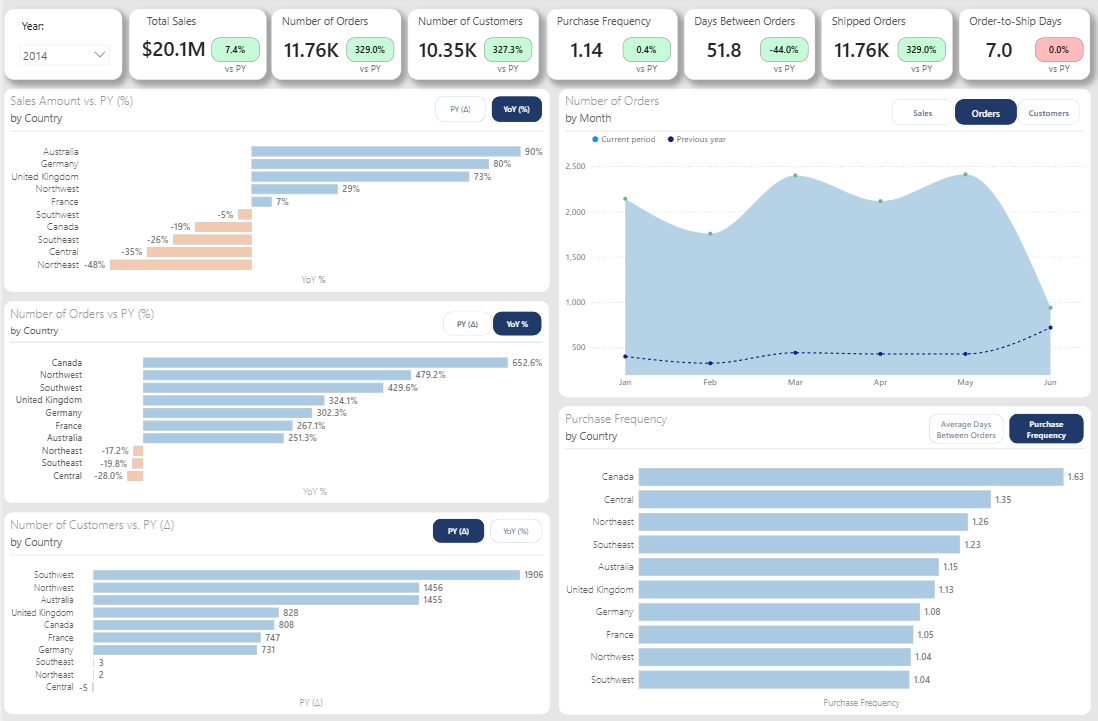

What the dashboard file says about the page in this screenshot:
{"tool":"powerbi","page":{"name":"My","canvas":[1920,1280],"ordinal":0},"visuals":[{"type":"shape","box":[218,24,240,124],"z":0,"group":"g10"},{"type":"shape","box":[466,24,226.6,124.3],"z":0,"group":"g11"},{"type":"shape","box":[705.1,24,228.6,124],"z":0,"group":"g12"},{"type":"shape","box":[945.7,24,228.6,124],"z":0,"group":"g5"},{"type":"shape","box":[1186.3,24,228.6,124],"z":0,"group":"g6"},{"type":"shape","box":[1426.9,24,228.6,124],"z":0,"group":"g8"},{"type":"shape","box":[1667.4,24,228.6,124],"z":0,"group":"g9"},{"type":"group","id":"g1","title":"Sales Amount by Country","box":[0,164,952,354],"z":0},{"type":"barChart","title":"Sales Amount vs. PY (Δ)","fields":{"Category":["dim_customer.TerritoryName"],"Y":["Measure.Total Sales vs PY (Δ)"]},"box":[0,164,952,354],"z":0,"group":"g1"},{"type":"lineChart","fields":{"Category":["Order Date.Month Name"],"Y":["Measure.Line Current","Measure.Line Previous Year","Measure.Line Below PY","Measure.Line Above PY"]},"box":[968,164,928,538],"z":0,"group":"g2"},{"type":"barChart","title":"Number of Customers vs. PY (Δ)","fields":{"Category":["dim_customer.TerritoryName"],"Y":["Measure.Number of Customer vs PY (Δ)"]},"box":[0,904,953,352],"z":0,"group":"g4"},{"type":"shape","box":[0,24,206,124],"z":1000},{"type":"card","fields":{"Values":["Measure.Total sales"]},"box":[228,62,134,64],"z":1000,"group":"g10"},{"type":"card","fields":{"Values":["Measure.Number of Orders"]},"box":[476,63.4,117.1,62.9],"z":1000,"group":"g11"},{"type":"card","fields":{"Values":["Measure.Number of Customers"]},"box":[715.2,63.4,118.2,62.7],"z":1000,"group":"g12"},{"type":"card","fields":{"Values":["Measure.Purchase Frequency"]},"box":[955.8,63.4,118.2,62.7],"z":1000,"group":"g5"},{"type":"card","fields":{"Values":["Measure.Average Days Between Orders"]},"box":[1196.4,63.4,118.2,62.7],"z":1000,"group":"g6"},{"type":"card","fields":{"Values":["Measure.Shipped Orders"]},"box":[1437,63.4,118.2,62.7],"z":1000,"group":"g8"},{"type":"card","fields":{"Values":["Measure.Average Order-to-Ship Days"]},"box":[1677.5,63.4,118.2,62.7],"z":1000,"group":"g9"},{"type":"textbox","title":"Legend","box":[1020,236,350,34],"z":1000,"group":"g2"},{"type":"card","fields":{"Values":["Measure.Total sales YoY %"]},"box":[362,73.7,84,42],"z":2000,"group":"g10"},{"type":"card","fields":{"Values":["Measure.Number of Customers YoY %"]},"box":[837.1,73.7,84,42],"z":2000,"group":"g12"},{"type":"card","fields":{"Values":["Measure.Purchase Frequency YoY %"]},"box":[1077.7,73.7,84,42],"z":2000,"group":"g5"},{"type":"card","fields":{"Values":["Measure.Average Days Between Orders YoY %"]},"box":[1318.3,73.7,84,42],"z":2000,"group":"g6"},{"type":"card","fields":{"Values":["Measure.Shipped Orders YoY %"]},"box":[1558.9,73.7,84,42],"z":2000,"group":"g8"},{"type":"card","fields":{"Values":["Measure.Average Order-to-Ship Days YoY %"]},"box":[1799.4,73.7,84,42],"z":2000,"group":"g9"},{"type":"card","fields":{"Values":["Measure.Number of Orders YoY %"]},"box":[596.9,73.8,83.3,42.1],"z":2000,"group":"g11"},{"type":"group","id":"g2","title":"Line for Sales/Orders/Customers","box":[968,164,928,538],"z":2000},{"type":"bookmarkNavigator","box":[751.8,176,187.9,45.2],"z":2000,"group":"g1"},{"type":"advancedSlicerVisual","fields":{"Values":["Parameter for Line.Parameter for Line"]},"box":[1544,176,340,55],"z":2000,"group":"g2"},{"type":"barChart","fields":{"Category":["dim_customer.TerritoryName"],"Y":["Measure.Number of Orders YoY %"]},"box":[0,534,951.1,352],"z":2000,"group":"g3"},{"type":"bookmarkNavigator","box":[747.6,916,191,42.8],"z":2000,"group":"g4"},{"type":"textbox","box":[243.9,29.2,198.9,35.6],"z":3000,"group":"g10"},{"type":"textbox","box":[479.7,29.2,197.1,35.7],"z":3000,"group":"g11"},{"type":"textbox","box":[719,29.2,198.9,35.6],"z":3000,"group":"g12"},{"type":"textbox","box":[959.6,29.2,198.9,35.6],"z":3000,"group":"g5"},{"type":"textbox","box":[1200.2,29.2,198.9,35.6],"z":3000,"group":"g6"},{"type":"textbox","box":[1440.8,29.2,198.9,35.6],"z":3000,"group":"g8"},{"type":"textbox","box":[1681.3,29.2,198.9,35.6],"z":3000,"group":"g9"},{"type":"group","id":"g3","title":"Number of Orders by Country","box":[0,534,1030,352],"z":3000},{"type":"slicer","fields":{"Values":["Date.Year"]},"box":[18,76,176,48],"z":4000},{"type":"textbox","box":[362,112,84,36],"z":4000,"group":"g10"},{"type":"textbox","box":[837.1,112,84,36],"z":4000,"group":"g12"},{"type":"textbox","box":[1077.7,112,84,36],"z":4000,"group":"g5"},{"type":"textbox","box":[1318.3,112,84,36],"z":4000,"group":"g6"},{"type":"textbox","box":[1558.9,112,84,36],"z":4000,"group":"g8"},{"type":"textbox","box":[1799.4,112,84,36],"z":4000,"group":"g9"},{"type":"textbox","box":[596.9,112.2,83.3,36.1],"z":4000,"group":"g11"},{"type":"advancedSlicerVisual","fields":{"Values":["Parameter Number of Order by Country .Parameter Number of Order by Country "]},"box":[761,546.5,269,52.3],"z":4000,"group":"g3"},{"type":"textbox","box":[26,36,164,42],"z":5000},{"type":"group","id":"g4","title":"Number of Customers by Country","box":[0,904,952,352],"z":6000},{"type":"group","id":"g5","title":"Purchase Frequency KPI","box":[945.7,24,228.6,124],"z":7000},{"type":"group","id":"g6","title":"Days Between Orders KPI","box":[1186.3,24,228.6,124],"z":8000},{"type":"group","id":"g7","title":"Purchase frequency / Average Days Between Orders","box":[968,718,928,538],"z":9000},{"type":"group","id":"g8","title":"Shipped Orders KPI","box":[1426.9,24,228.6,124],"z":10000},{"type":"barChart","title":"Purchase Frequency","fields":{"Category":["dim_customer.TerritoryName"],"Y":["Measure.Purchase Frequency"]},"box":[968,718,928,538],"z":10000,"group":"g7"},{"type":"bookmarkNavigator","box":[1614,730,270,52],"z":10500,"group":"g7"},{"type":"group","id":"g9","title":"Order-to-Ship Days KPI","box":[1667.4,24,228.6,124],"z":11000},{"type":"group","id":"g10","title":"Sales KPI","box":[218,24,240,124],"z":12000},{"type":"group","id":"g11","title":"Orders KPI","box":[466,24,226,124],"z":13000},{"type":"group","id":"g12","title":"Customers KPI","box":[705.1,24,228.6,124],"z":14000}]}

Visuals, with their boxes in screenshot pixels (x1, y1, x2, y2), scaled from the page's 1920x1280 canvas onto the 1098x721 screenshot:
shape: 125,14,262,83
shape: 266,14,396,84
shape: 403,14,534,83
shape: 541,14,672,83
shape: 678,14,809,83
shape: 816,14,947,83
shape: 954,14,1084,83
"Sales Amount by Country" group: 0,92,544,292
"Sales Amount vs. PY (Δ)" barChart: 0,92,544,292
lineChart - Order Date.Month Name x Measure.Line Current: 554,92,1084,395
"Number of Customers vs. PY (Δ)" barChart: 0,509,545,707
shape: 0,14,118,83
card - Measure.Total sales: 130,35,207,71
card - Measure.Number of Orders: 272,36,339,71
card - Measure.Number of Customers: 409,36,477,71
card - Measure.Purchase Frequency: 547,36,614,71
card - Measure.Average Days Between Orders: 684,36,752,71
card - Measure.Shipped Orders: 822,36,889,71
card - Measure.Average Order-to-Ship Days: 959,36,1027,71
"Legend" textbox: 583,133,783,152
card - Measure.Total sales YoY %: 207,42,255,65
card - Measure.Number of Customers YoY %: 479,42,527,65
card - Measure.Purchase Frequency YoY %: 616,42,664,65
card - Measure.Average Days Between Orders YoY %: 754,42,802,65
card - Measure.Shipped Orders YoY %: 891,42,940,65
card - Measure.Average Order-to-Ship Days YoY %: 1029,42,1077,65
card - Measure.Number of Orders YoY %: 341,42,389,65
"Line for Sales/Orders/Customers" group: 554,92,1084,395
bookmarkNavigator: 430,99,537,125
advancedSlicerVisual - Parameter for Line.Parameter for Line: 883,99,1077,130
barChart - dim_customer.TerritoryName x Measure.Number of Orders YoY %: 0,301,544,499
bookmarkNavigator: 428,516,537,540
textbox: 139,16,253,37
textbox: 274,16,387,37
textbox: 411,16,525,37
textbox: 549,16,663,37
textbox: 686,16,800,37
textbox: 824,16,938,37
textbox: 961,16,1075,37
"Number of Orders by Country" group: 0,301,589,499
slicer - Date.Year: 10,43,111,70
textbox: 207,63,255,83
textbox: 479,63,527,83
textbox: 616,63,664,83
textbox: 754,63,802,83
textbox: 891,63,940,83
textbox: 1029,63,1077,83
textbox: 341,63,389,84
advancedSlicerVisual - Parameter Number of Order by Country .Parameter Number of Order by Country : 435,308,589,337
textbox: 15,20,109,44
"Number of Customers by Country" group: 0,509,544,707
"Purchase Frequency KPI" group: 541,14,672,83
"Days Between Orders KPI" group: 678,14,809,83
"Purchase frequency / Average Days Between Orders" group: 554,404,1084,707
"Shipped Orders KPI" group: 816,14,947,83
"Purchase Frequency" barChart: 554,404,1084,707
bookmarkNavigator: 923,411,1077,440
"Order-to-Ship Days KPI" group: 954,14,1084,83
"Sales KPI" group: 125,14,262,83
"Orders KPI" group: 266,14,396,83
"Customers KPI" group: 403,14,534,83
